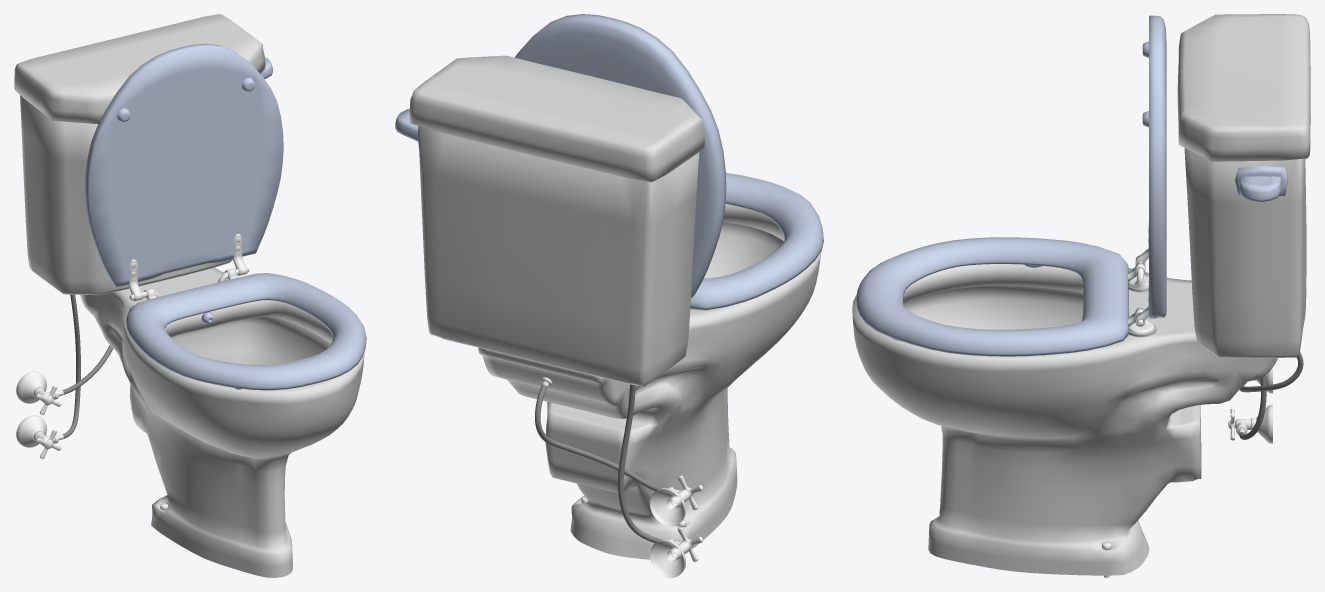
File: toilet.glb
3 views of the same model, side by side, from view 1: azimuth 30°, elevation 25°; view 2: azimuth 150°, elevation 25°; view 3: azimuth 270°, elevation 25° (orthographic). The views are drawn at different scales.
Parts seen in each view (by area): view 1: Object_6, Object_3, Object_2, Object_4; view 2: Object_6, Object_2, Object_3, Object_4; view 3: Object_6, Object_3, Object_2, Object_4.
Boxes of the visible parts, bbox=[...] form: Object_6: bbox=[14, 14, 364, 577]; Object_3: bbox=[33, 43, 366, 442]; Object_2: bbox=[20, 95, 247, 510]; Object_4: bbox=[33, 267, 310, 446]; Object_6: bbox=[395, 55, 821, 577]; Object_2: bbox=[418, 126, 699, 527]; Object_3: bbox=[515, 14, 823, 558]; Object_4: bbox=[418, 129, 690, 561]; Object_6: bbox=[852, 14, 1310, 575]; Object_3: bbox=[856, 15, 1255, 434]; Object_2: bbox=[1102, 148, 1306, 577]; Object_4: bbox=[892, 165, 1303, 439].
Size of the model in its own units: 0.6085 by 1.08 by 0.8496.
1 material, 1 textured.
